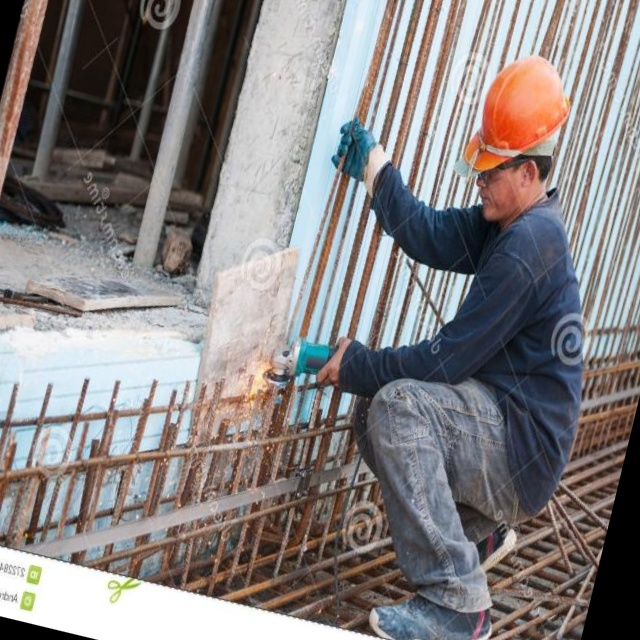Con_Casco: (447, 45, 581, 229)
